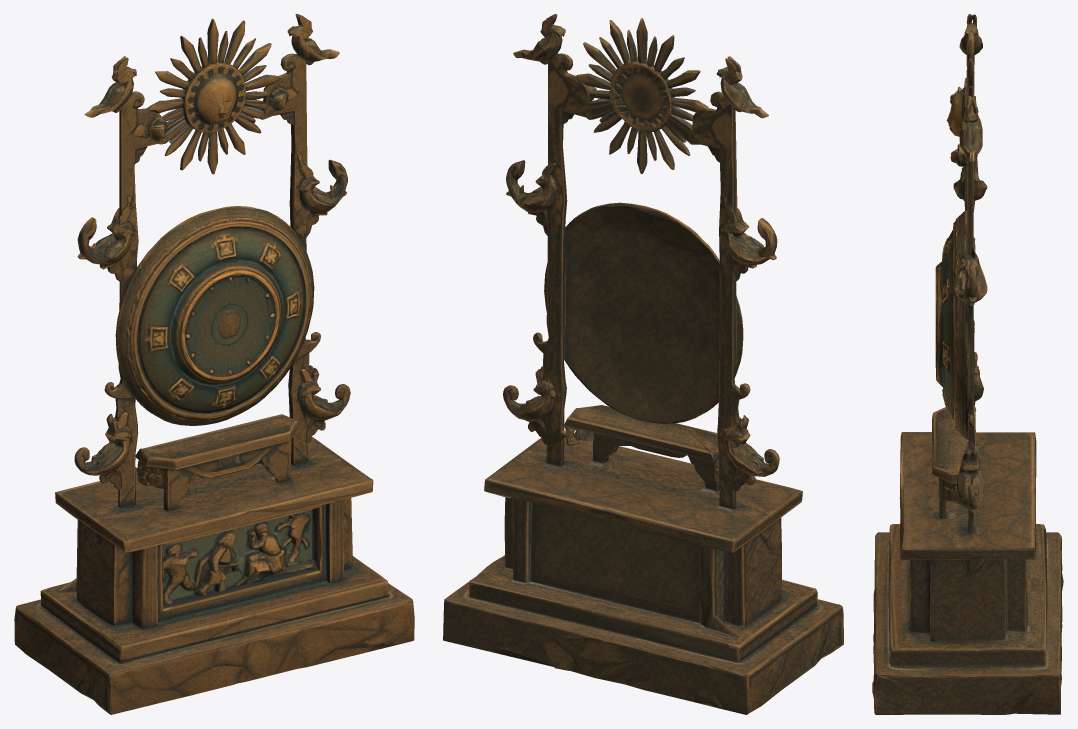
Rendered from dongSonDrum.glb.
3 renders of one model, left to right at view 1: azimuth 30°, elevation 25°; view 2: azimuth 150°, elevation 25°; view 3: azimuth 270°, elevation 25°, orthographic. The views are drawn at different scales.
Parts seen in each view (by area): view 1: mesh_node; view 2: mesh_node; view 3: mesh_node.
Part boxes in pixels (bbox=[...]): mesh_node: bbox=[14, 14, 414, 714]; mesh_node: bbox=[443, 14, 843, 714]; mesh_node: bbox=[872, 14, 1063, 714].
Bounding box in the file's own units: 0.9786 × 1.9 × 0.5448.
Materials: 1 (1 with a texture image).
